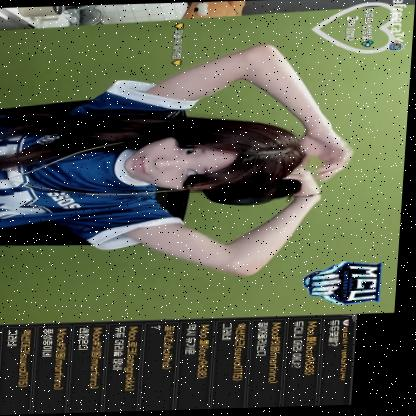streamer: (0, 41, 363, 283)
